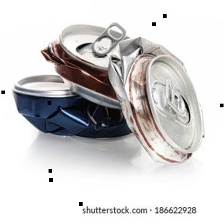can: (105, 35, 207, 171), (38, 13, 144, 111), (9, 69, 126, 141)
